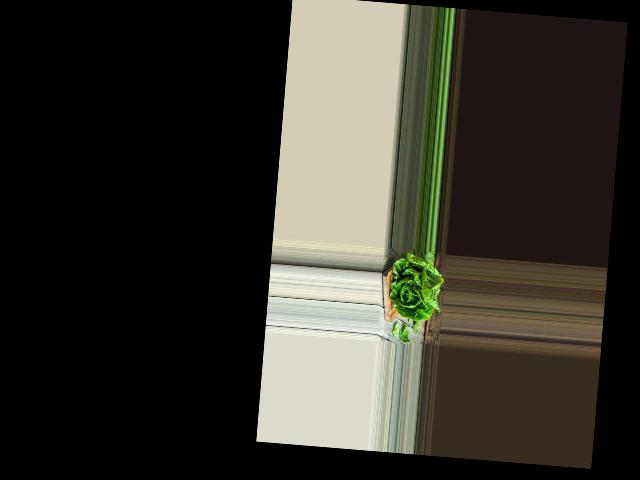lettuce: (385, 250, 444, 319)
